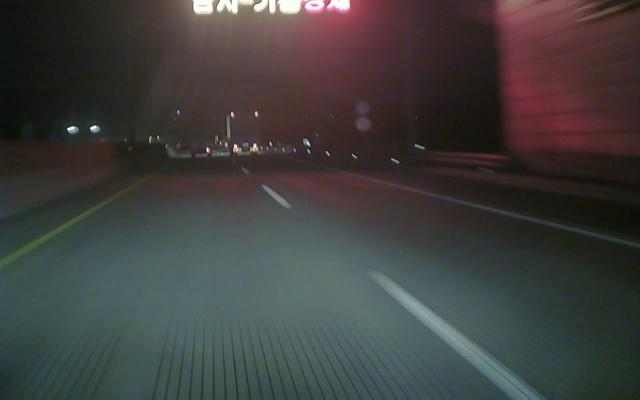lane: (257, 182, 551, 400), (361, 175, 640, 251), (0, 181, 142, 273)
